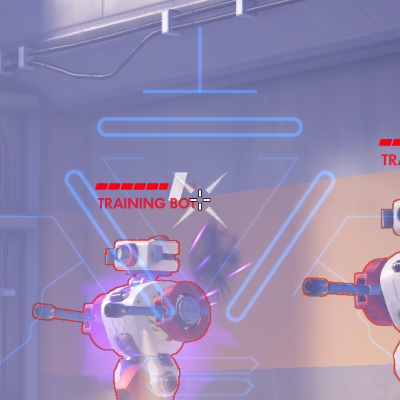hpbar: (94, 182, 197, 191), (378, 138, 400, 147)
